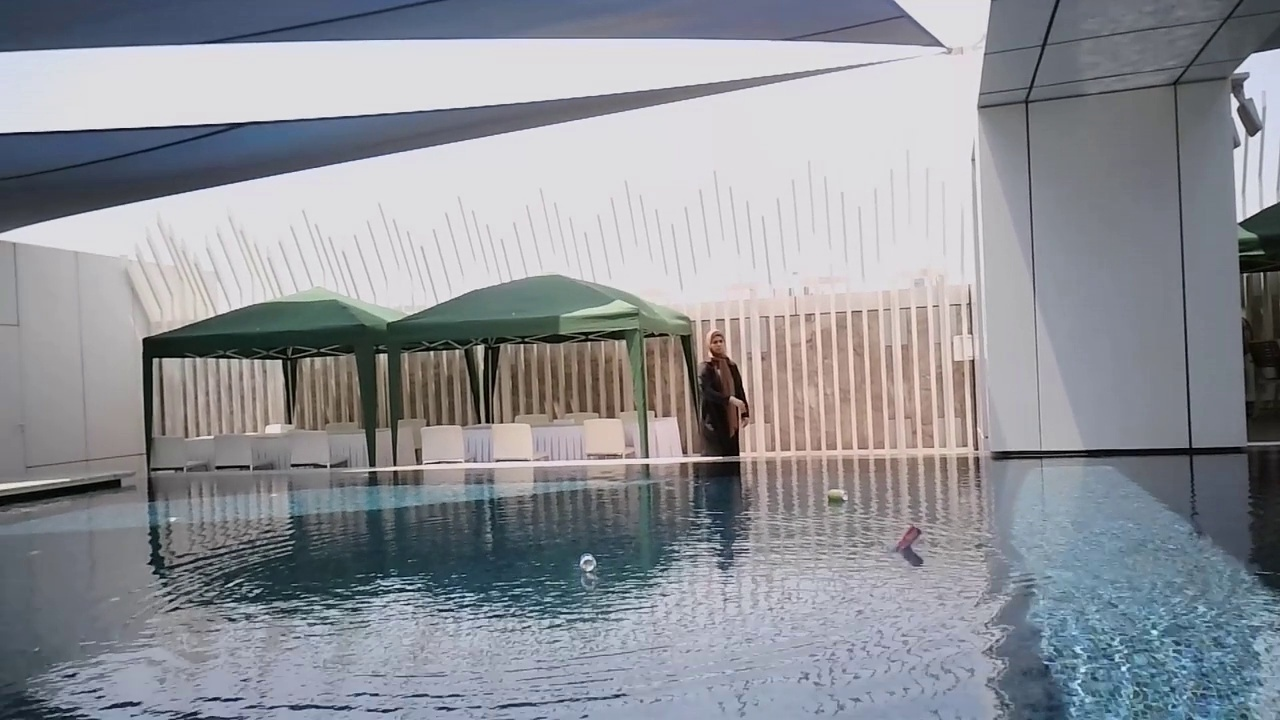debris: (892, 521, 922, 558), (826, 486, 853, 508), (576, 549, 598, 574)
